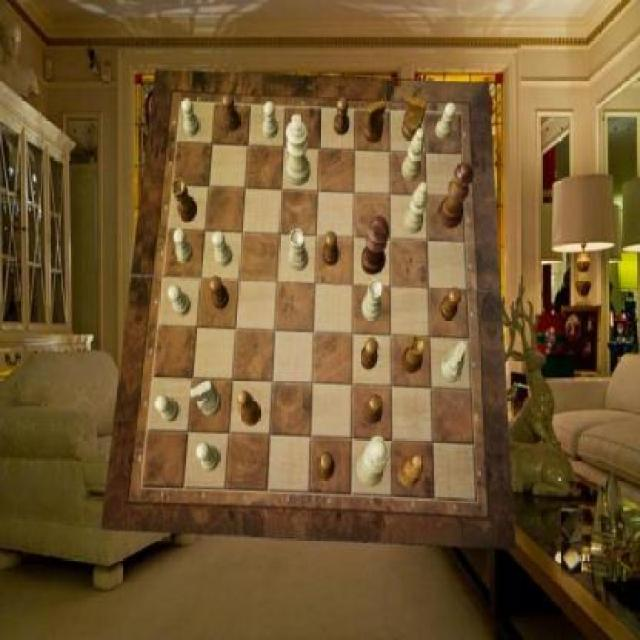bishop: (237, 390, 261, 426), (399, 454, 423, 488)
black-bishop: (362, 217, 391, 275)
black-king: (403, 94, 428, 141), (365, 99, 387, 142)
black-knight: (438, 288, 461, 322), (222, 94, 240, 132), (209, 277, 229, 311), (334, 97, 350, 135), (360, 338, 378, 371), (323, 231, 340, 265), (317, 452, 335, 480), (365, 396, 382, 424)
black-pawn: (437, 163, 474, 229)
black-queen: (172, 177, 197, 222), (402, 335, 426, 373)
black-rook: (403, 181, 428, 234), (403, 128, 426, 182)
white-bishop: (286, 114, 311, 186)
white-king: (191, 380, 221, 418), (442, 342, 468, 383)
white-knight: (436, 102, 456, 139), (212, 231, 232, 267), (168, 285, 190, 317), (174, 229, 194, 264), (196, 443, 220, 471), (182, 98, 199, 137), (155, 396, 180, 422), (262, 102, 278, 139)
white-pawn: (357, 437, 390, 488)
white-queen: (363, 278, 383, 321), (289, 229, 309, 272)
